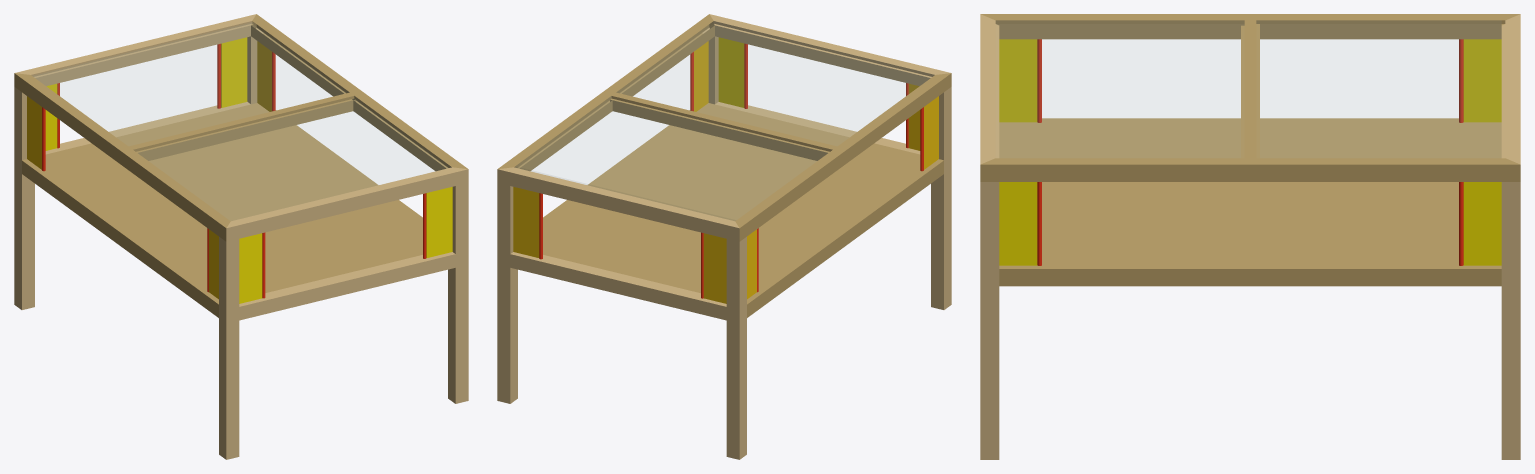
File: table.glb
3 views of the same model, side by side, from view 1: azimuth 30°, elevation 25°; view 2: azimuth 150°, elevation 25°; view 3: azimuth 270°, elevation 25° (orthographic). The views are drawn at different scales.
Parts seen in each view (by area): view 1: root; view 2: root; view 3: root.
Part boxes in pixels (bbox=[...]): root: bbox=[14, 14, 468, 459]; root: bbox=[497, 14, 951, 459]; root: bbox=[980, 14, 1520, 459].
Size of the model in its own units: 11.81 by 10.79 by 17.91.
